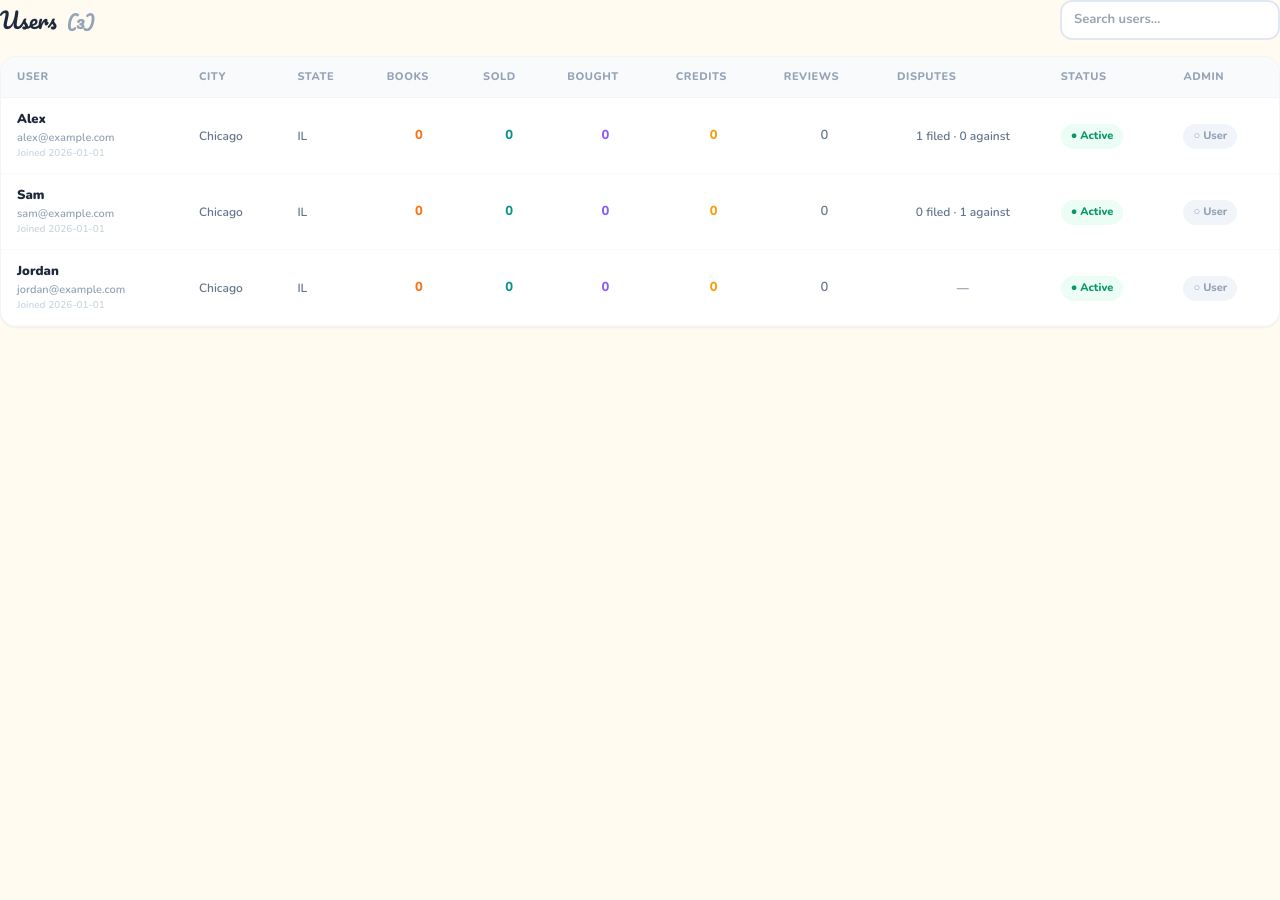
UsersTab › shows a loading message in the card instead of a tally or "No disputes." while disputes have not loaded yet
The image size is (1280, 900).
Click the row that starts with "Jordan": click(640, 288) [1,250,1279,326]
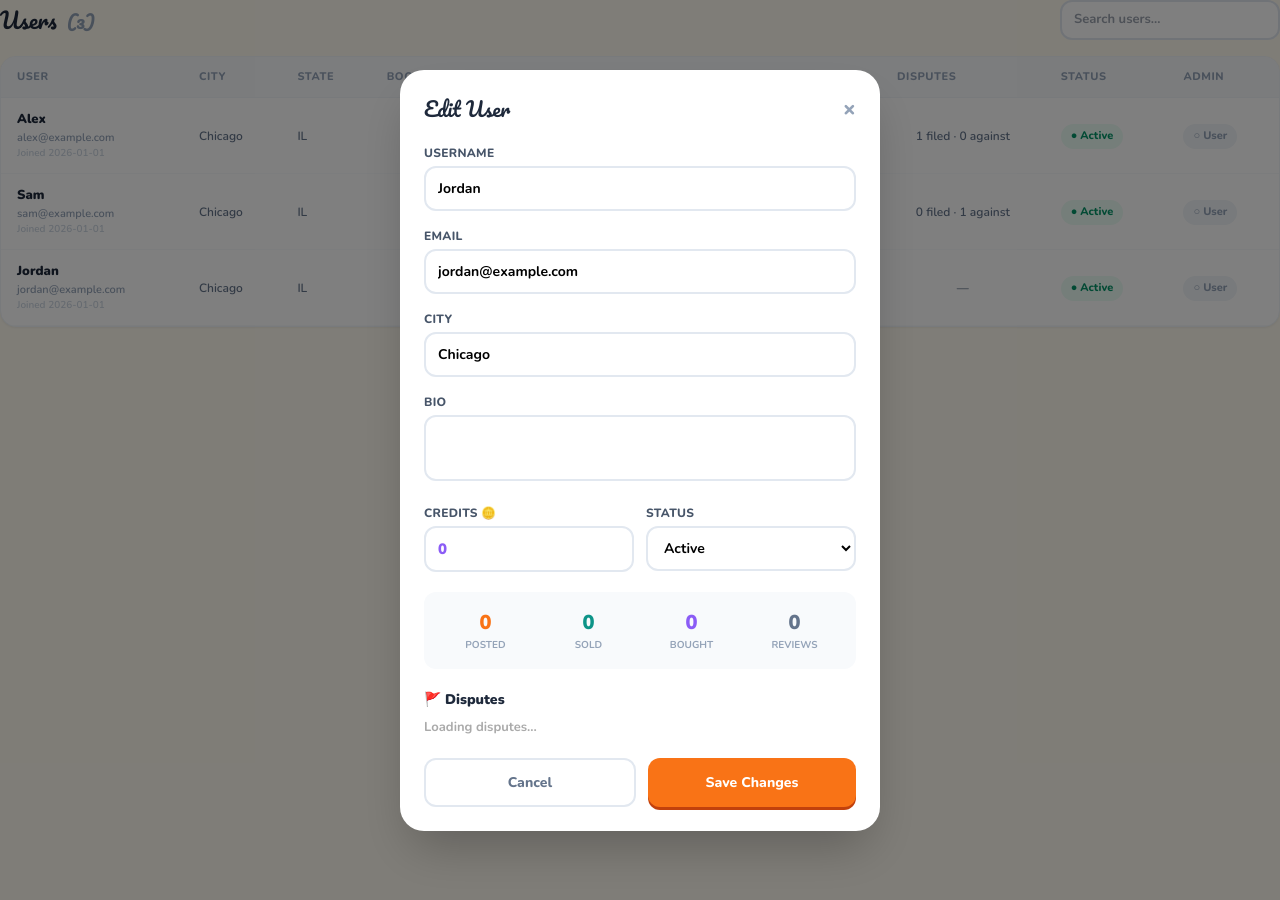
Expected: the element with class "inset-0" does not show "filed"
Expected: the text "Loading disputes..." is shown, [424,718,537,736]
